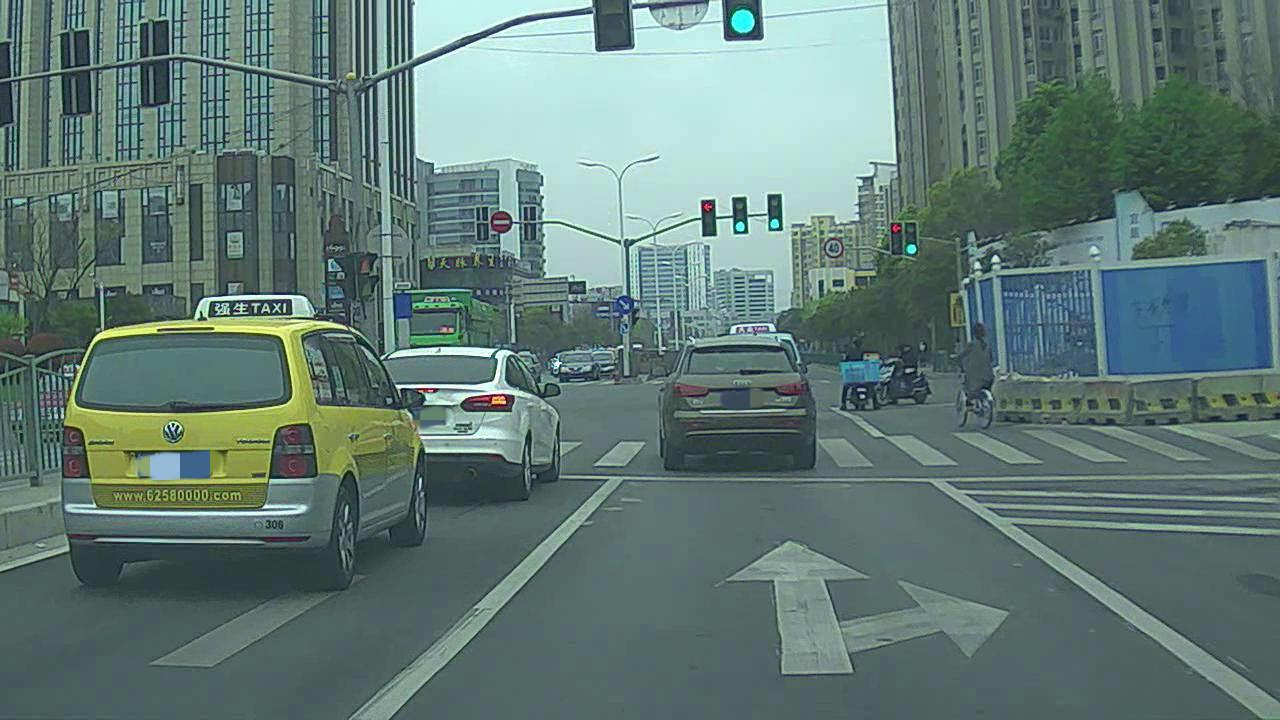traffic_light: (764, 193, 786, 235), (732, 197, 750, 238), (699, 201, 716, 238), (907, 222, 921, 257), (891, 222, 905, 256)
